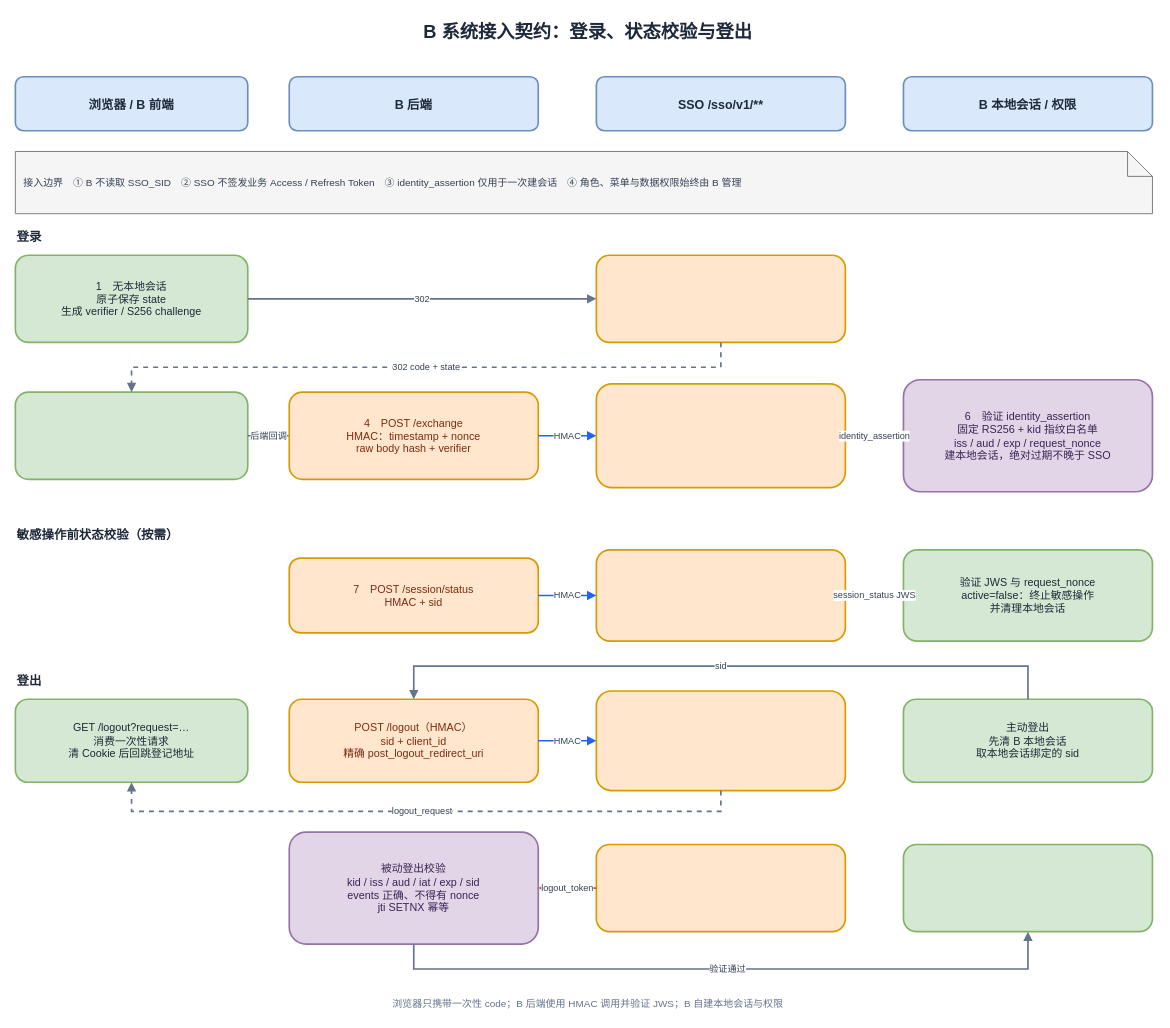
This 1170x1028 diagram has some shape labels left out. The shapes that lost their labels are listed below. From the top down, each one's centre as x and y in pixels, then its label:
At (x=720, y=298): "2 GET /authorize client_id / 精确 redirect_uri state / code_challenge".
At (x=131, y=435): "3 callback 校验并原子消费 state 得到 code".
At (x=720, y=435): "5 HMAC → GETDEL code 校验 client / URI / PKCE / 会话 登记 session-clients → 签发 JWS".
At (x=720, y=595): "仅已登记该 SID 的 client 才可能获得 active=true 返回签名 session_status".
At (x=720, y=740): "撤销 SID + 写恢复索引 / Outbox 返回一次性 logout_request 浏览器请求匹配 SID 才清 SSO Cookie".
At (x=720, y=887): "Outbox 异步 POST logout_token JWS 同 jti 重试，客户端返回 204".
At (x=1027, y=887): "按 sid 清理本地会话 业务权限数据不删除".
